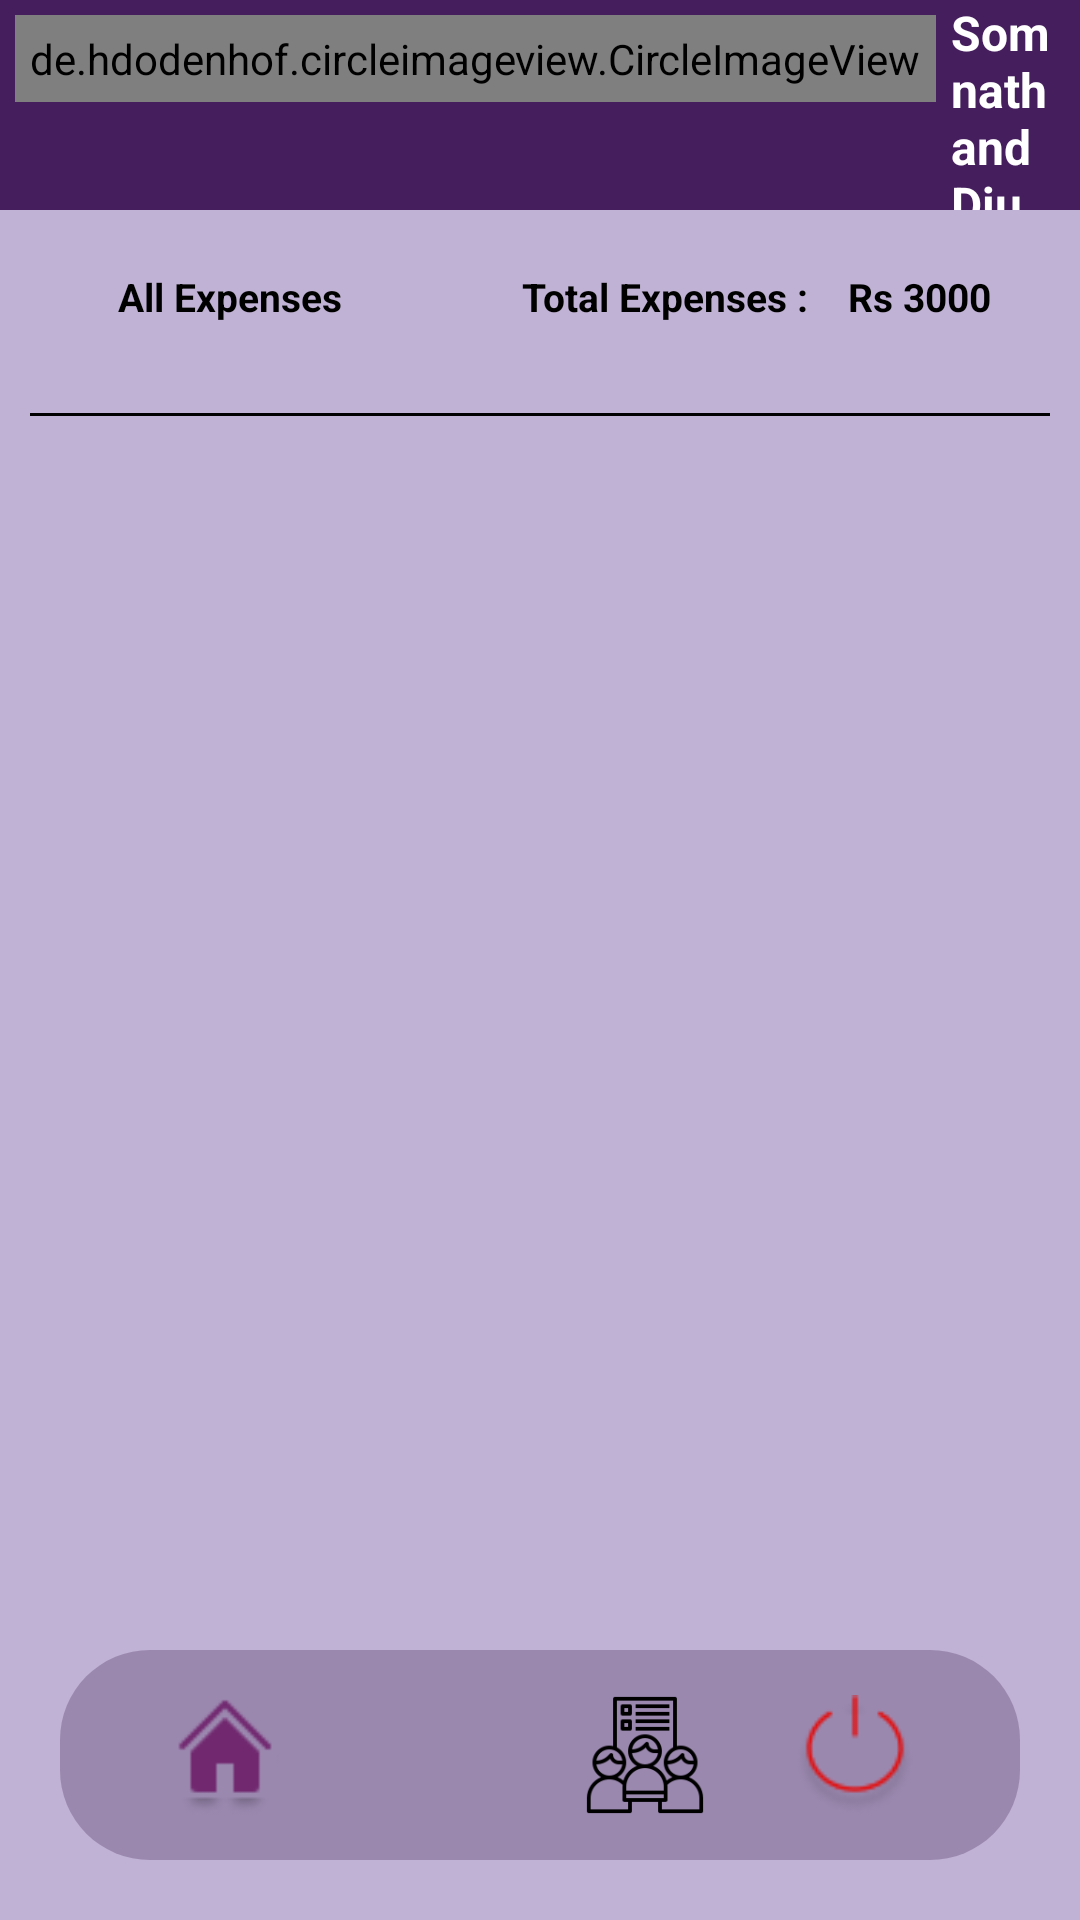

Named icons in this screenshot (1080*1920) and their bounding boxes, BBox(x1, y1, x2, y2):
home: BBox(179, 1700, 271, 1803)
team: BBox(587, 1697, 703, 1813)
